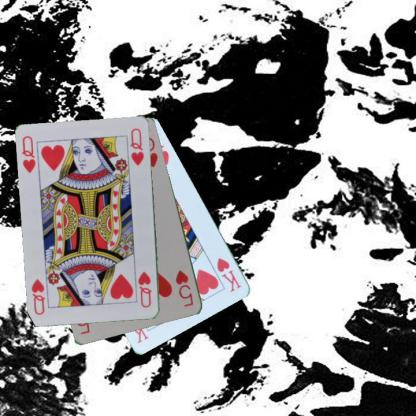5h: (172, 268, 194, 308)
Kh: (214, 256, 243, 294)
Qh: (136, 269, 153, 309), (20, 134, 37, 174)
